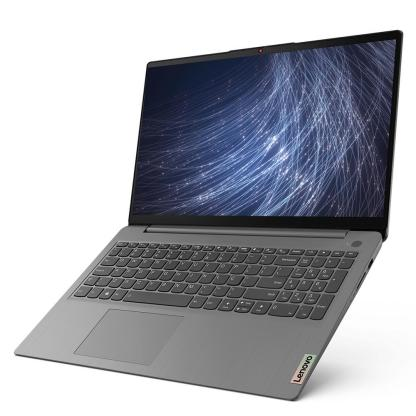NOTEBOOK: (36, 36, 416, 416)
